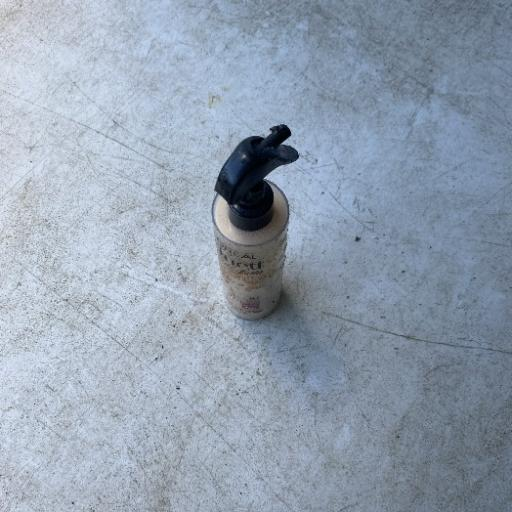Metal: (2, 2, 509, 509), (208, 121, 301, 323)
